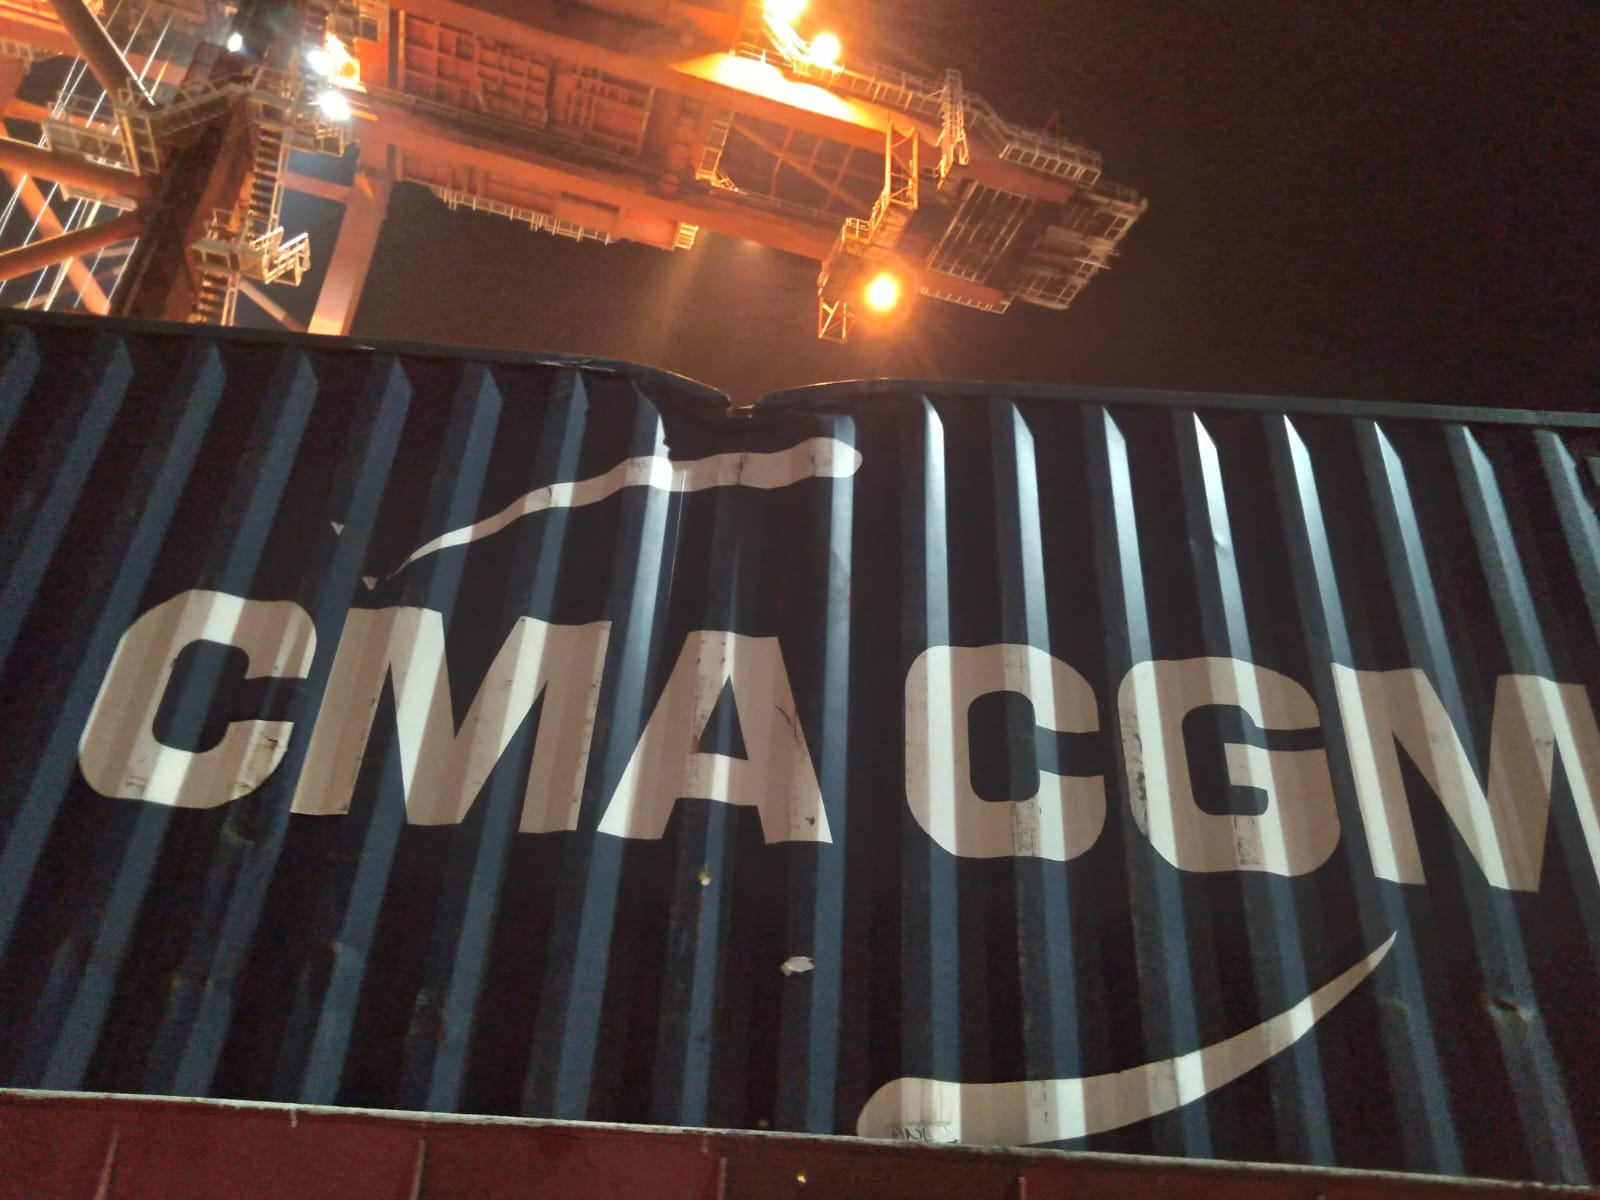dented: (569, 371, 907, 476)
